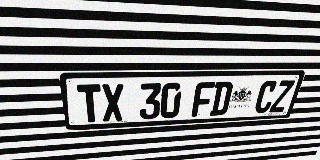0: (160, 82, 182, 119)
3: (140, 83, 162, 120)
C: (253, 80, 279, 113)
D: (209, 81, 234, 116)
F: (191, 82, 215, 117)
T: (77, 84, 102, 123)
X: (101, 84, 124, 122)
Z: (269, 80, 295, 113)
